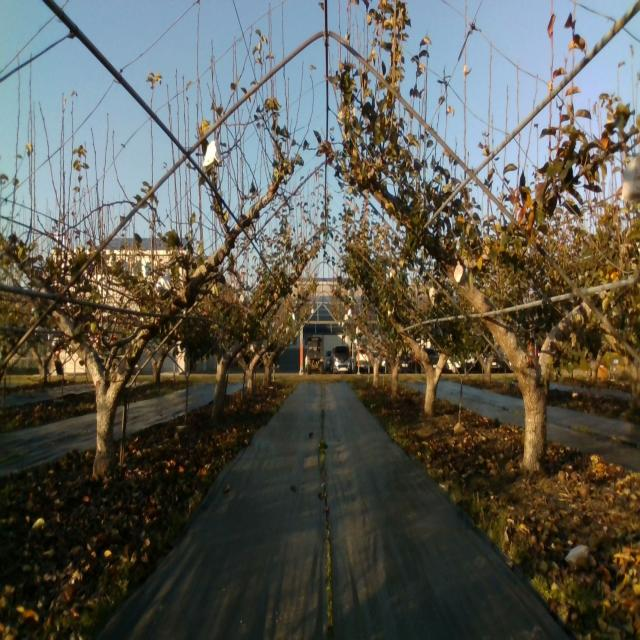pearbags: (202, 139, 222, 167), (154, 270, 171, 292), (454, 261, 466, 285)
